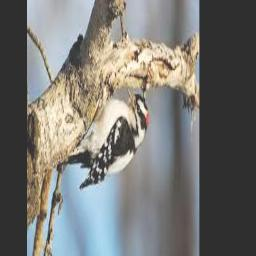Woodpecker: (57, 86, 148, 188)
